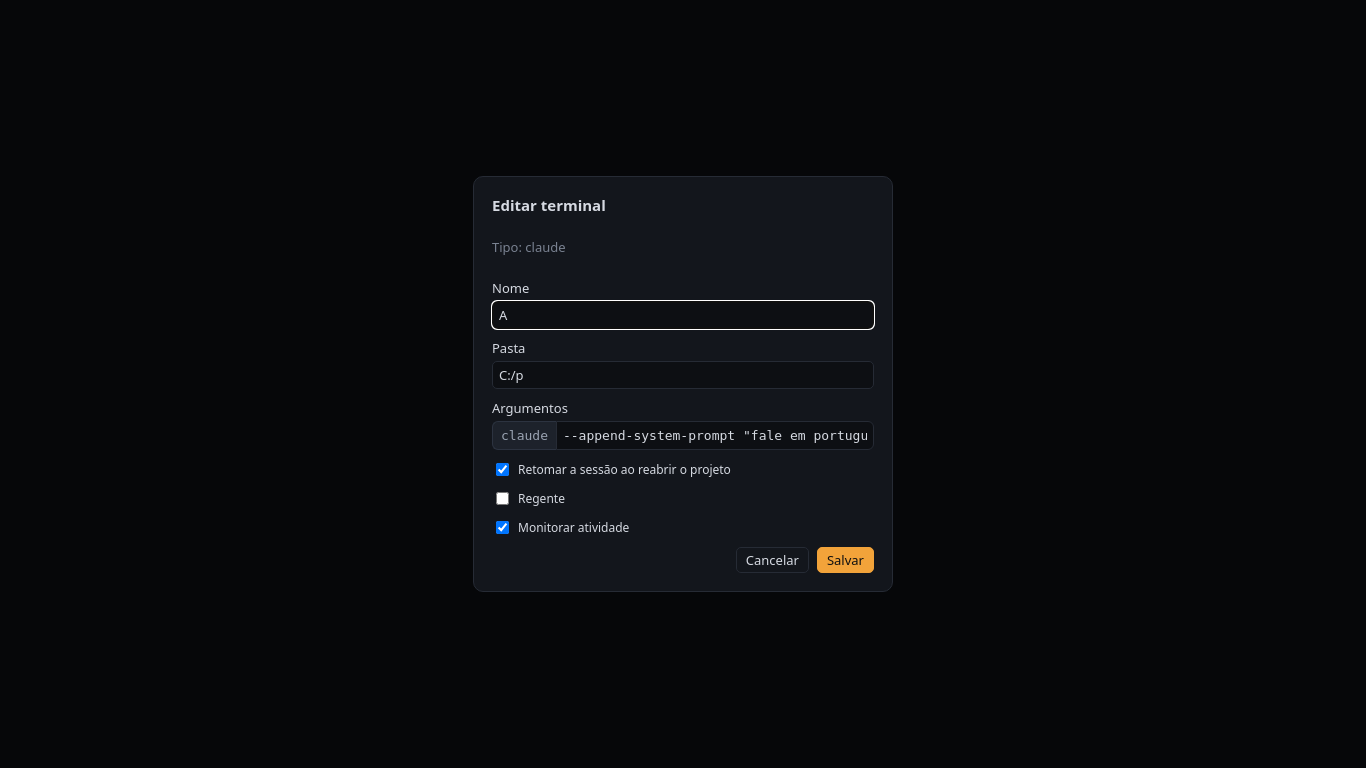
EditTerminalDialog › erro do núcleo aparece no diálogo e mantém os campos
Step 1. Replace the text in the field with test id "edit-terminal-cwd" with "X" → (683, 375), box [492,361,874,389]
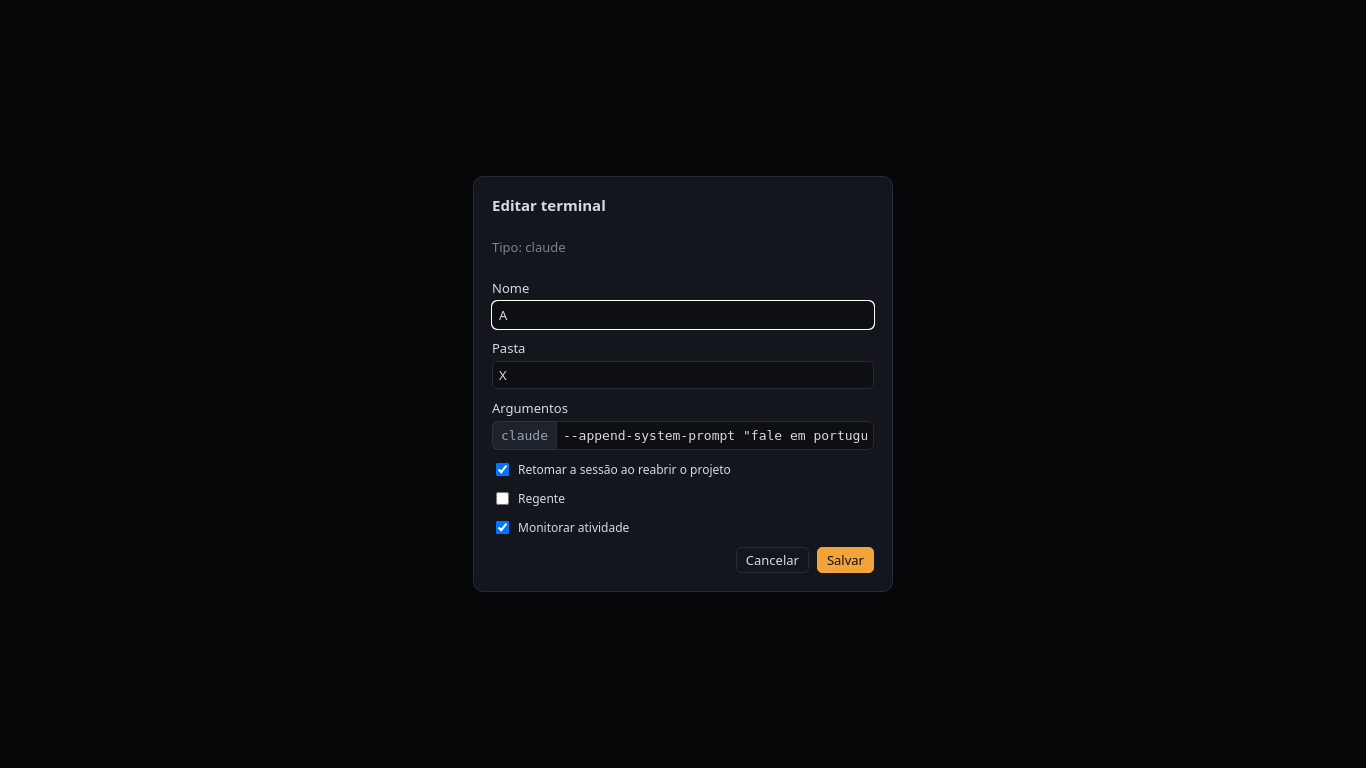
Step 2. Click the button with test id "edit-terminal-submit" → (845, 560), box [817,547,874,573]
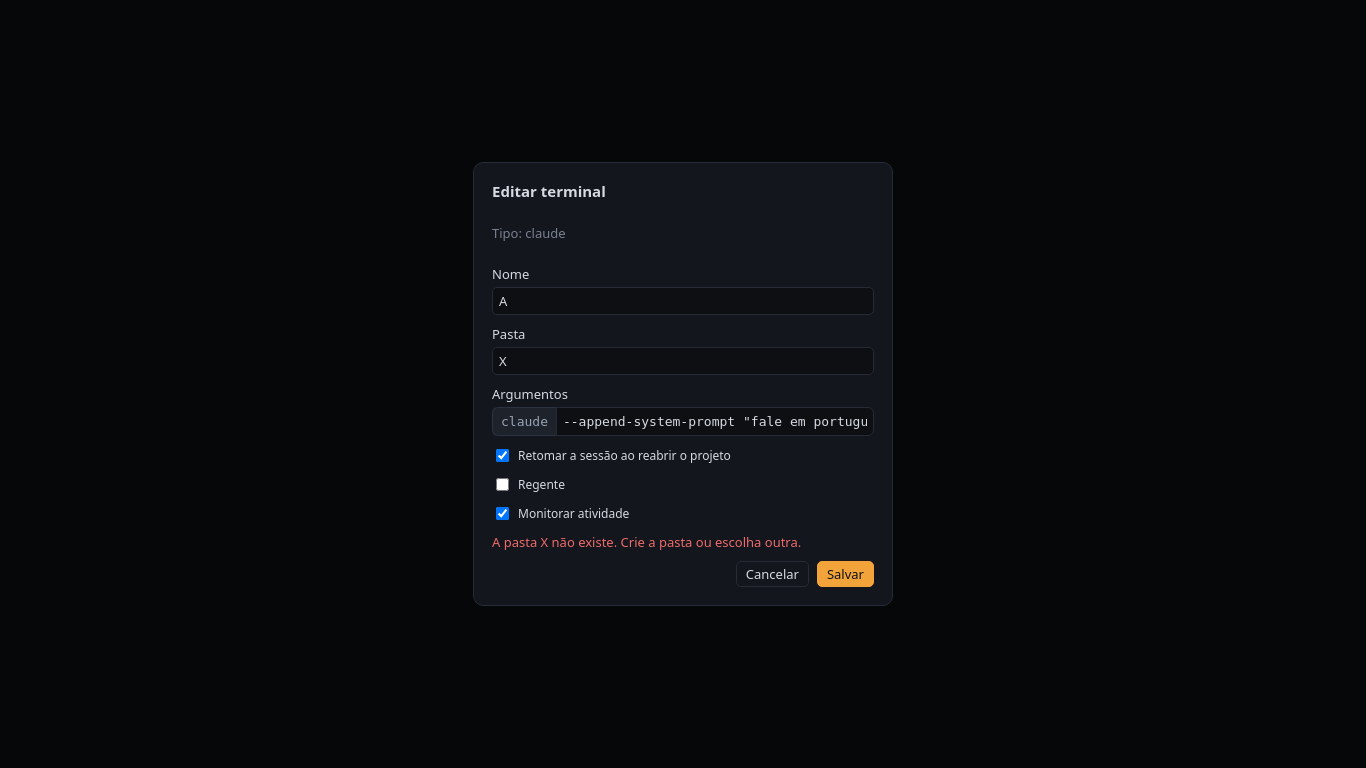
Now the text "A pasta X não existe. Crie a pasta ou escolha outra." is shown, box [492,533,801,551]
